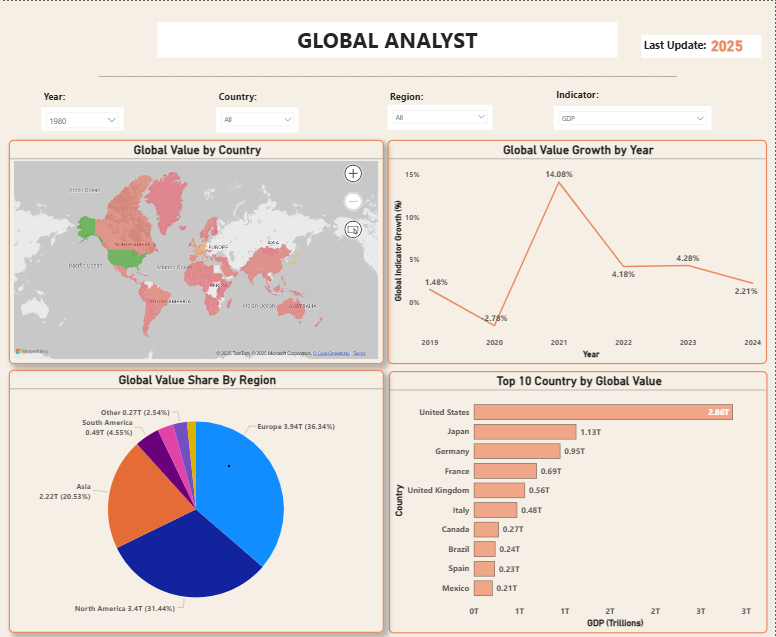

What the dashboard file says about the page in this screenshot:
{"tool":"powerbi","page":{"name":"Global Indicators Analyst","canvas":[1550,1280],"ordinal":0},"visuals":[{"type":"textbox","box":[81.7,173.3,68.3,40],"z":0},{"type":"textbox","box":[431.7,171.7,95,43.3],"z":1000},{"type":"slicer","fields":{"Values":["global_indicators.Country"]},"box":[431.7,213.3,165,50],"z":2000},{"type":"textbox","box":[315,43.3,920,70],"z":3000},{"type":"textbox","box":[165,130,1220,43.3],"z":4000},{"type":"slicer","fields":{"Values":["global_indicators.Year"]},"box":[81.7,213.3,165,46.7],"z":5000},{"type":"clusteredBarChart","title":"Top 10 Country by Global Value","fields":{"Category":["global_indicators.Country"],"Y":["Indicator.Selected Indicator Value"]},"box":[776.2,738.8,757.5,525],"z":6000},{"type":"filledMap","title":"Global Value by Country","fields":{"Category":["global_indicators.Country"],"Y":["Indicator.Selected Indicator Value"]},"box":[16.2,276.2,750,448.8],"z":7000},{"type":"pieChart","title":"Global Value Share By Region","fields":{"Category":["dim_country.region"],"Y":["Indicator.Selected Indicator Value"]},"box":[16.2,737.5,750,526.2],"z":8000},{"type":"textbox","box":[1283.3,66.7,240,46.7],"z":9000},{"type":"card","fields":{"Values":["#Measure Manager.Last Update"]},"box":[1385,66.7,138.3,41.7],"z":10000},{"type":"lineChart","title":"Global Value Growth by Year","fields":{"Category":["dim_year.Year"],"Y":["#Measure Manager.Global Indicator Growth (%)"]},"box":[775.6,276.7,758.9,448.9],"z":11000},{"type":"slicer","fields":{"Values":["Indicator.indicator_name"]},"box":[1106.7,210,315,48.3],"z":12000},{"type":"textbox","box":[1106.7,170,95,43.3],"z":13000},{"type":"textbox","box":[775,171.7,95,43.3],"z":14000},{"type":"slicer","fields":{"Values":["dim_country.region"]},"box":[775,208.3,210,50],"z":15000}]}

Visuals, with their boxes in screenshot pixels (x1, y1, x2, y2), scaled from the page's 1550x1280 canvas onto the 776x637 screenshot:
textbox: [x1=41, y1=86, x2=75, y2=106]
textbox: [x1=216, y1=85, x2=264, y2=107]
slicer - global_indicators.Country: [x1=216, y1=106, x2=299, y2=131]
textbox: [x1=158, y1=22, x2=618, y2=56]
textbox: [x1=83, y1=65, x2=693, y2=86]
slicer - global_indicators.Year: [x1=41, y1=106, x2=124, y2=129]
"Top 10 Country by Global Value" clusteredBarChart: [x1=389, y1=368, x2=768, y2=629]
"Global Value by Country" filledMap: [x1=8, y1=137, x2=384, y2=361]
"Global Value Share By Region" pieChart: [x1=8, y1=367, x2=384, y2=629]
textbox: [x1=642, y1=33, x2=763, y2=56]
card - #Measure Manager.Last Update: [x1=693, y1=33, x2=763, y2=54]
"Global Value Growth by Year" lineChart: [x1=388, y1=138, x2=768, y2=361]
slicer - Indicator.indicator_name: [x1=554, y1=105, x2=712, y2=129]
textbox: [x1=554, y1=85, x2=602, y2=106]
textbox: [x1=388, y1=85, x2=436, y2=107]
slicer - dim_country.region: [x1=388, y1=104, x2=493, y2=129]
